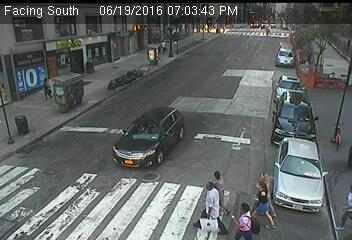neg: (56, 73, 84, 111), (324, 121, 348, 154), (100, 174, 124, 206), (140, 195, 164, 227), (301, 106, 324, 137), (50, 147, 73, 178), (282, 59, 302, 87), (279, 157, 299, 184), (132, 139, 152, 166), (218, 95, 238, 122), (187, 46, 206, 72), (17, 110, 36, 136), (240, 79, 257, 102), (18, 166, 34, 188), (245, 31, 261, 52), (147, 42, 162, 62), (118, 62, 132, 81)
pos: (189, 176, 224, 222), (249, 178, 280, 219), (231, 198, 256, 231), (210, 167, 229, 193)
